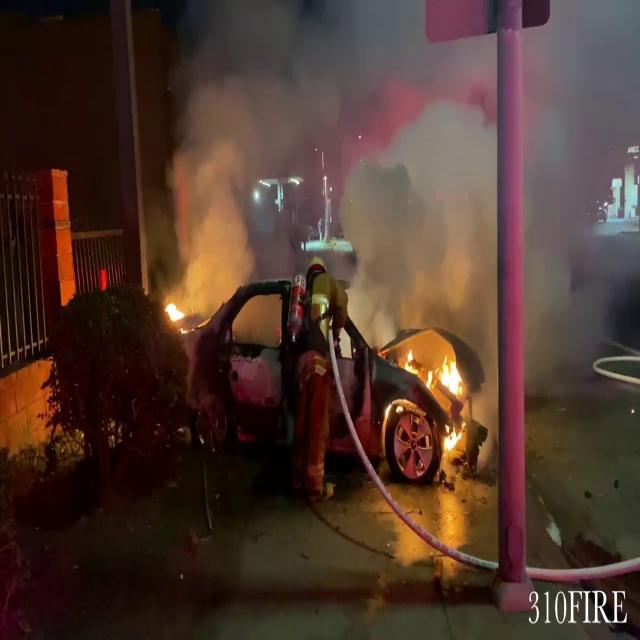Fire: (432, 346, 472, 464), (162, 294, 190, 334)
Smoke: (146, 0, 494, 307), (523, 0, 640, 355)
